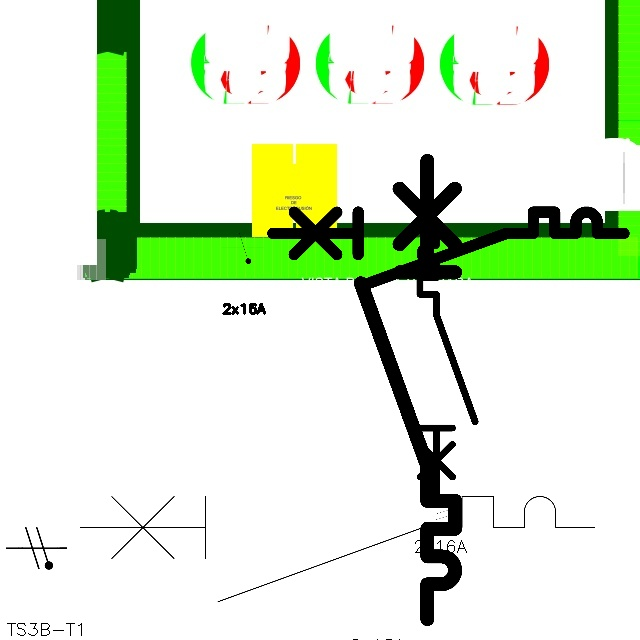interruptor_termomagnetico: (67, 483, 608, 615), (349, 149, 467, 631), (263, 203, 632, 293), (413, 218, 482, 500)
